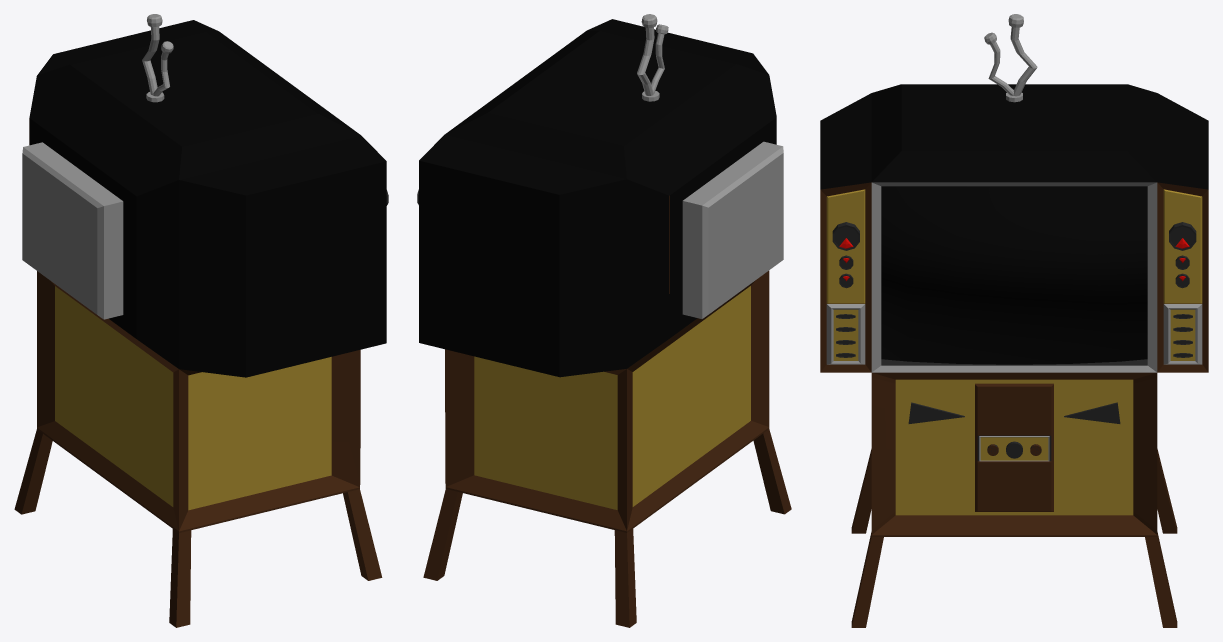
Rendered from Television.fbx.
3 renders of one model, left to right at view 1: azimuth 30°, elevation 25°; view 2: azimuth 150°, elevation 25°; view 3: azimuth 270°, elevation 25°, orthographic.
Visible parts, largest first — view 1: TV; view 2: TV; view 3: TV.
Part boxes in pixels (x1,y1,x2,y2): TV: (14, 14, 388, 627); TV: (417, 14, 791, 627); TV: (820, 14, 1208, 627).
Size of the model in its own units: 0.6733 by 1.43 by 0.9325.
